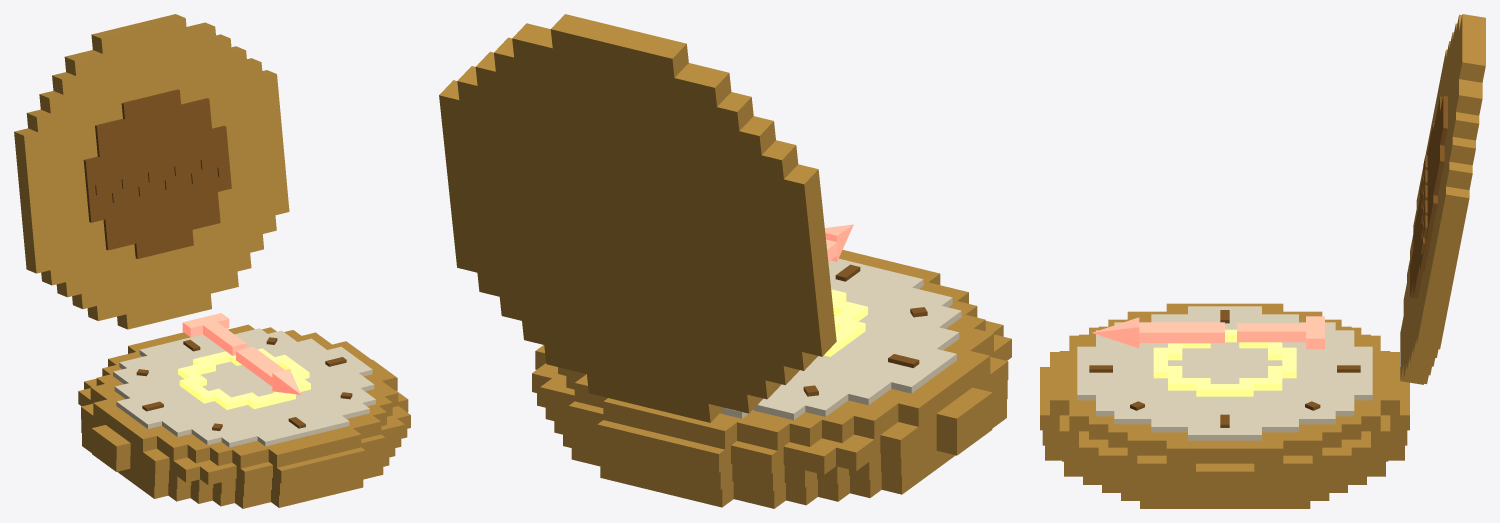
The picture shows the model from 3 angles, left to right: view 1: azimuth 30°, elevation 25°; view 2: azimuth 150°, elevation 25°; view 3: azimuth 270°, elevation 25°; orthographic projection. The views are drawn at different scales.
Parts seen in each view (by area): view 1: R034_Main, R034_Trim, R034_Accent, R034_Glow, R034_Spin_Needle; view 2: R034_Main, R034_Accent, R034_Glow, R034_Trim, R034_Spin_Needle; view 3: R034_Main, R034_Accent, R034_Spin_Needle, R034_Trim, R034_Glow.
Boxes of the visible parts, box(x1,y1,x2,y2) form: R034_Main: box(14, 14, 410, 508); R034_Trim: box(83, 89, 352, 430); R034_Accent: box(113, 328, 375, 447); R034_Glow: box(178, 348, 310, 409); R034_Spin_Needle: box(182, 313, 301, 394); R034_Main: box(439, 14, 1011, 508); R034_Accent: box(720, 258, 961, 420); R034_Glow: box(824, 289, 867, 356); R034_Trim: box(803, 264, 927, 396); R034_Spin_Needle: box(825, 224, 853, 261); R034_Main: box(1040, 14, 1485, 508); R034_Accent: box(1077, 306, 1372, 440); R034_Spin_Needle: box(1092, 316, 1324, 349); R034_Trim: box(1089, 95, 1447, 427); R034_Glow: box(1153, 329, 1296, 396).
Size of the model in its own units: 1.6 by 1.85 by 1.87.
